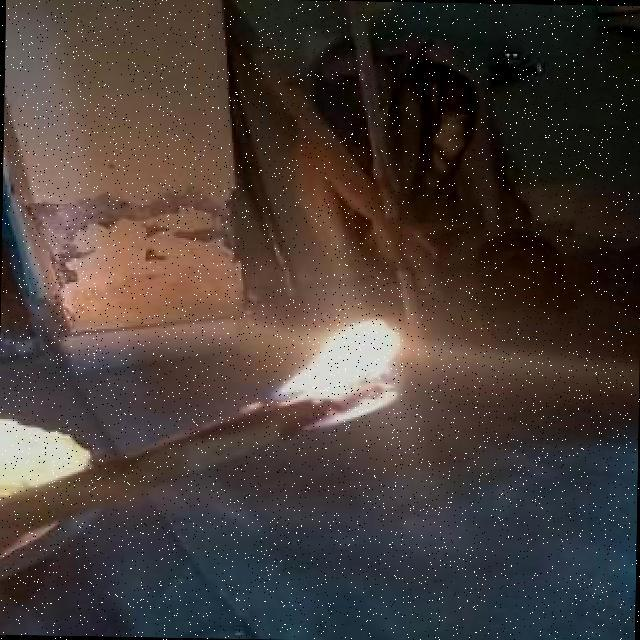Fire: (218, 284, 437, 444)
